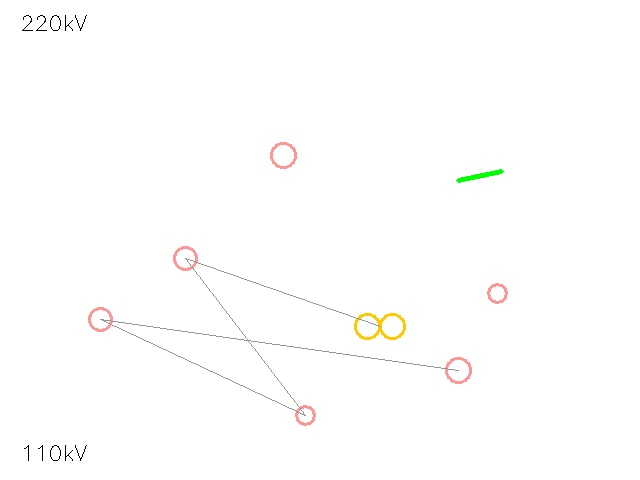busbar: (452, 148, 508, 204)
disconnect_switch: (433, 345, 483, 395), (163, 236, 207, 280)
feeder_terminal: (259, 131, 307, 179), (478, 274, 516, 312)
fuse: (287, 397, 323, 433)
load_break_switch: (77, 296, 123, 342)
transformer_2w: (348, 294, 412, 358)
